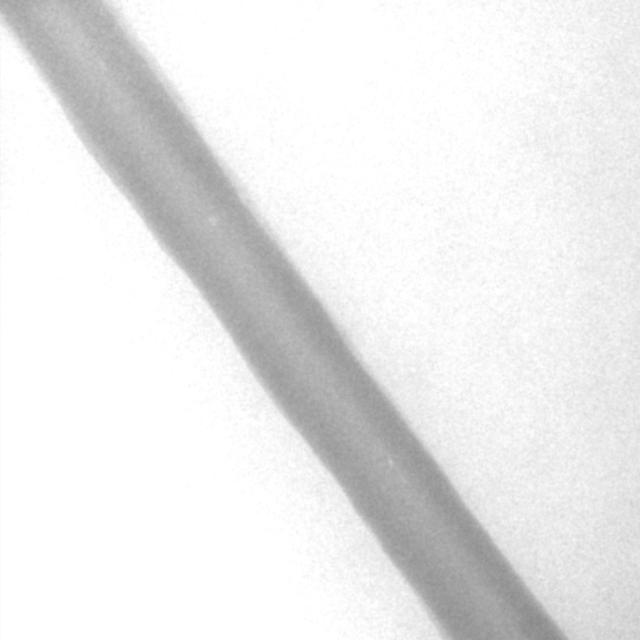air-hole: (210, 217, 216, 229)
